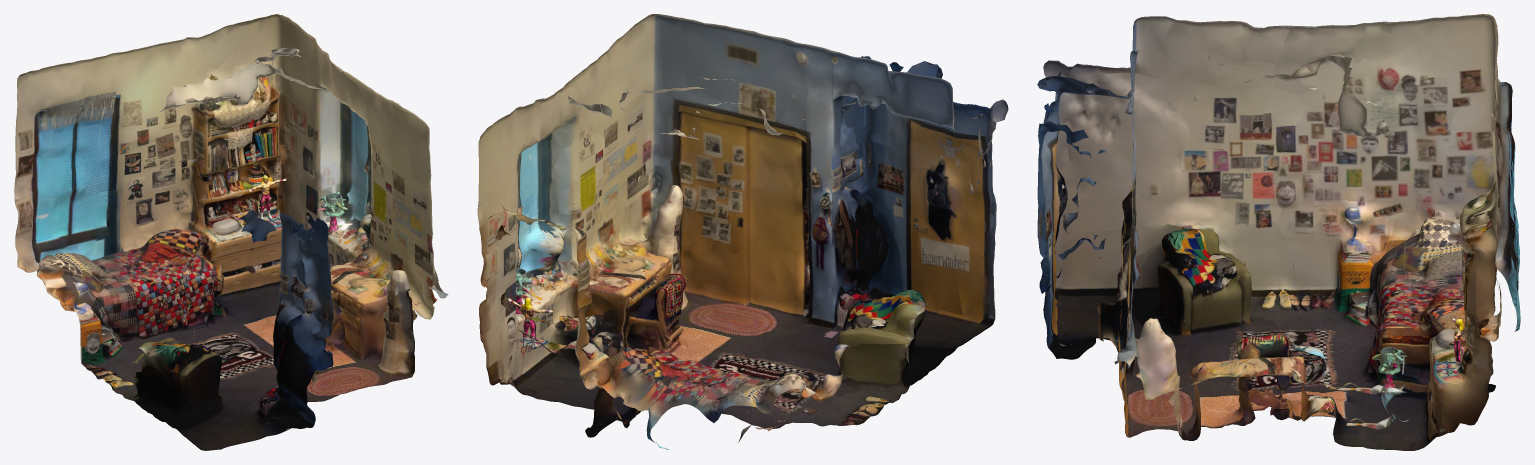
File: room9.glb
3 renders of one model, left to right at view 1: azimuth 30°, elevation 25°; view 2: azimuth 150°, elevation 25°; view 3: azimuth 270°, elevation 25°, orthographic. The views are drawn at different scales.
Visible parts, largest first — view 1: room, lamp, Mesh_0; view 2: room, Mesh_0; view 3: room, lamp.
Boxes of the visible parts, x1,y1,x2,y2 form: room: (14, 14, 448, 450); lamp: (317, 192, 347, 232); Mesh_0: (248, 175, 286, 219); room: (477, 14, 1008, 449); Mesh_0: (507, 297, 552, 349); room: (1037, 14, 1520, 450); lamp: (1371, 347, 1407, 388).
Size of the model in its own units: 1.21 by 0.9758 by 1.42.
8 materials, 8 textured.
